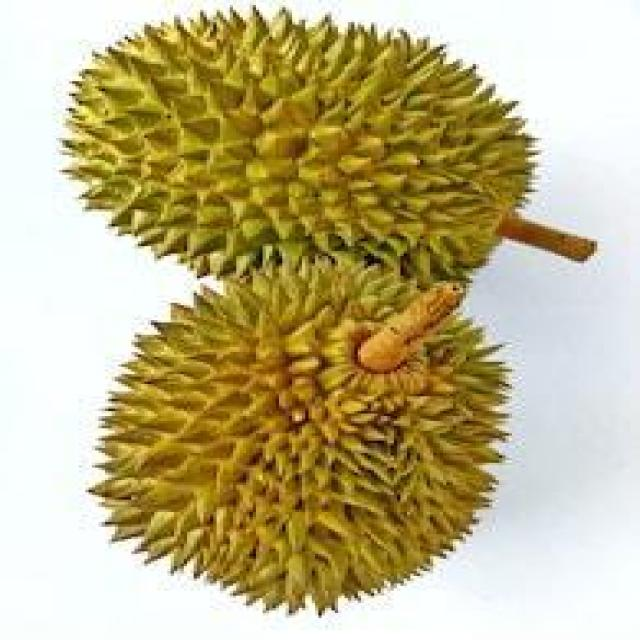mature: (95, 265, 505, 610)
